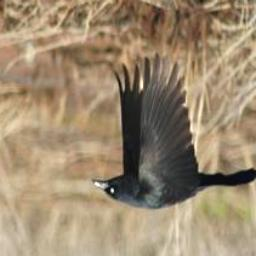Crow: (90, 53, 256, 212)
